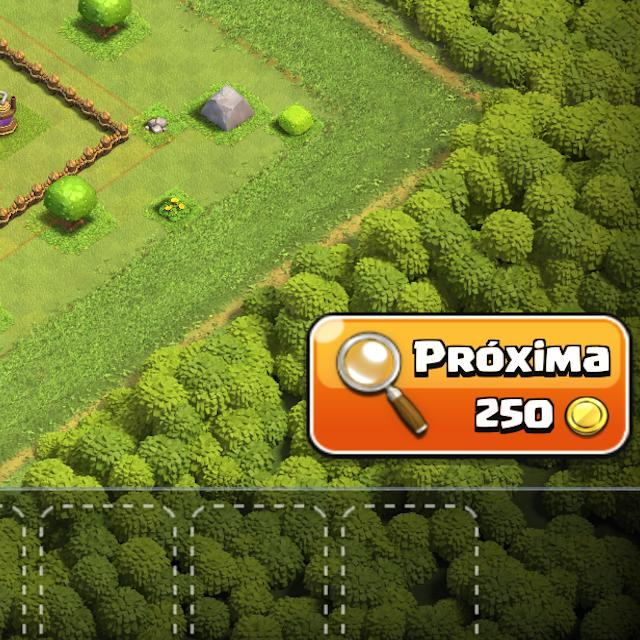Next: (304, 311, 632, 464)
